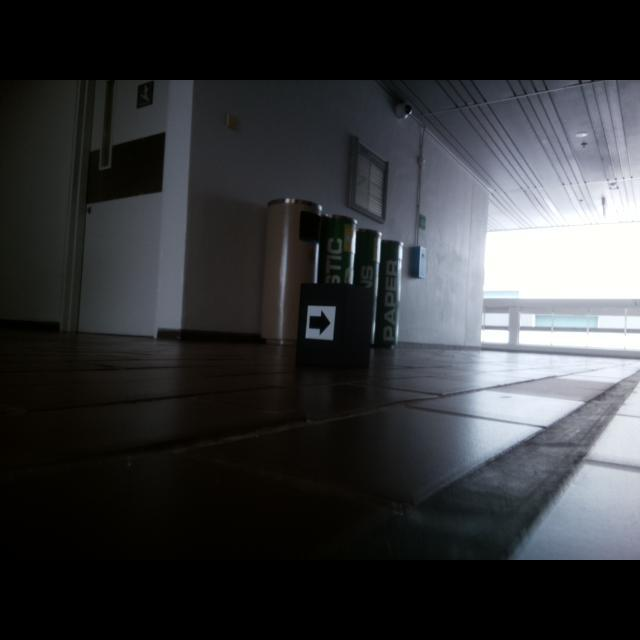RIGHT: (308, 309, 331, 336)
